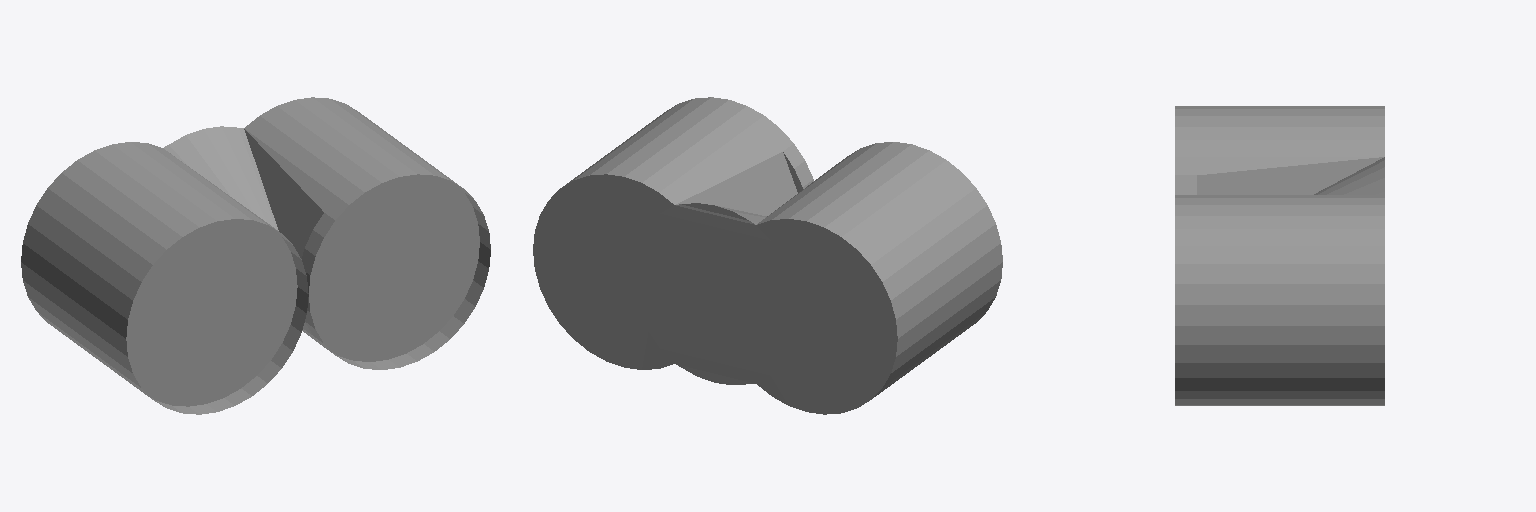
File: dualShot.obj
3 views of the same model, side by side, from view 1: azimuth 30°, elevation 25°; view 2: azimuth 150°, elevation 25°; view 3: azimuth 270°, elevation 25° (orthographic).
Visible parts, largest first — view 1: Cone; view 2: Cone; view 3: Cone.
Boxes of the visible parts, <box> form: Cone: <box>21,97,490,414</box>; Cone: <box>533,97,1002,414</box>; Cone: <box>1175,106,1384,405</box>.
Bounding box in the file's own units: 4 × 2 × 2.